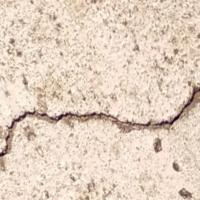crack: (0, 78, 199, 166)
